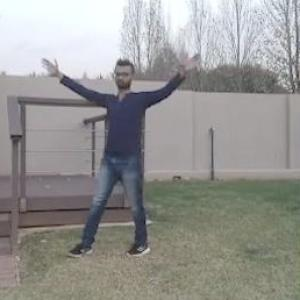takeoff: (65, 52, 241, 265)
